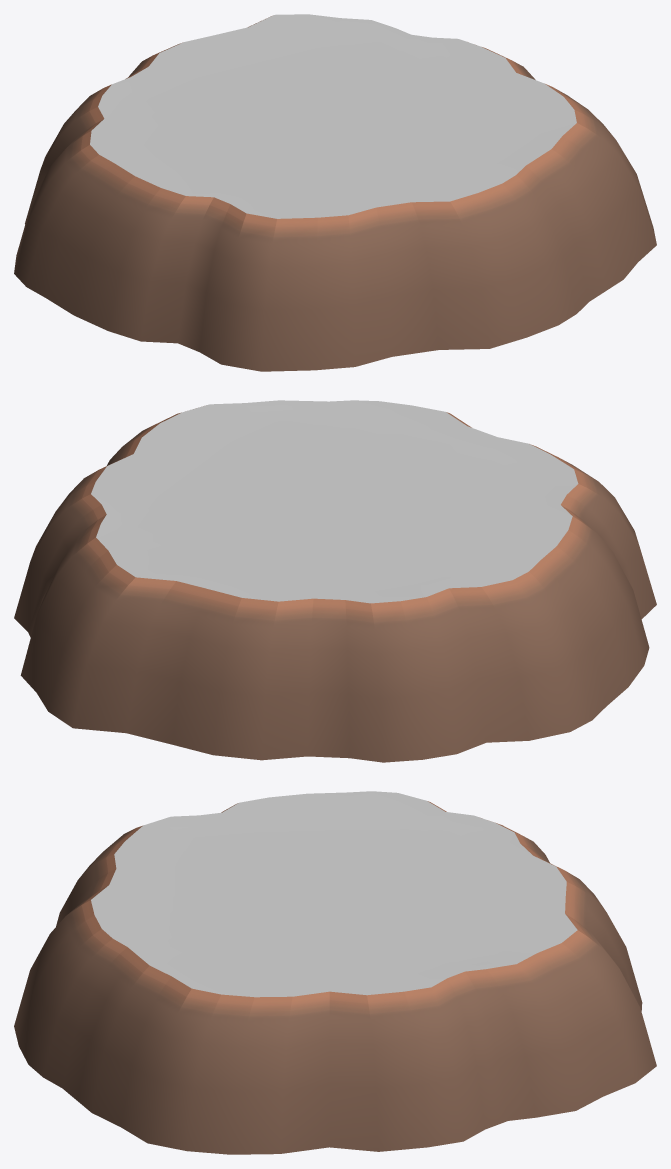
File: island4.fbx
3 views of the same model, one above another, from view 1: azimuth 30°, elevation 25°; view 2: azimuth 150°, elevation 25°; view 3: azimuth 270°, elevation 25° (orthographic). The views are drawn at different scales.
Visible parts, largest first — view 1: island.001; view 2: island.001; view 3: island.001.
Part boxes in pixels (left/top/right/bottom): island.001: left=14, top=14, right=656, bottom=371; island.001: left=14, top=400, right=656, bottom=762; island.001: left=14, top=791, right=656, bottom=1154.
Bounding box in the file's own units: 6960 × 1493 × 6952.
